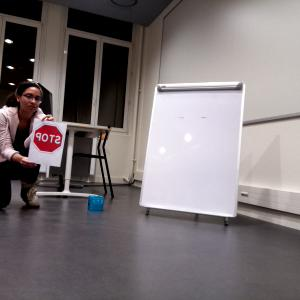stop: (32, 122, 64, 154)
